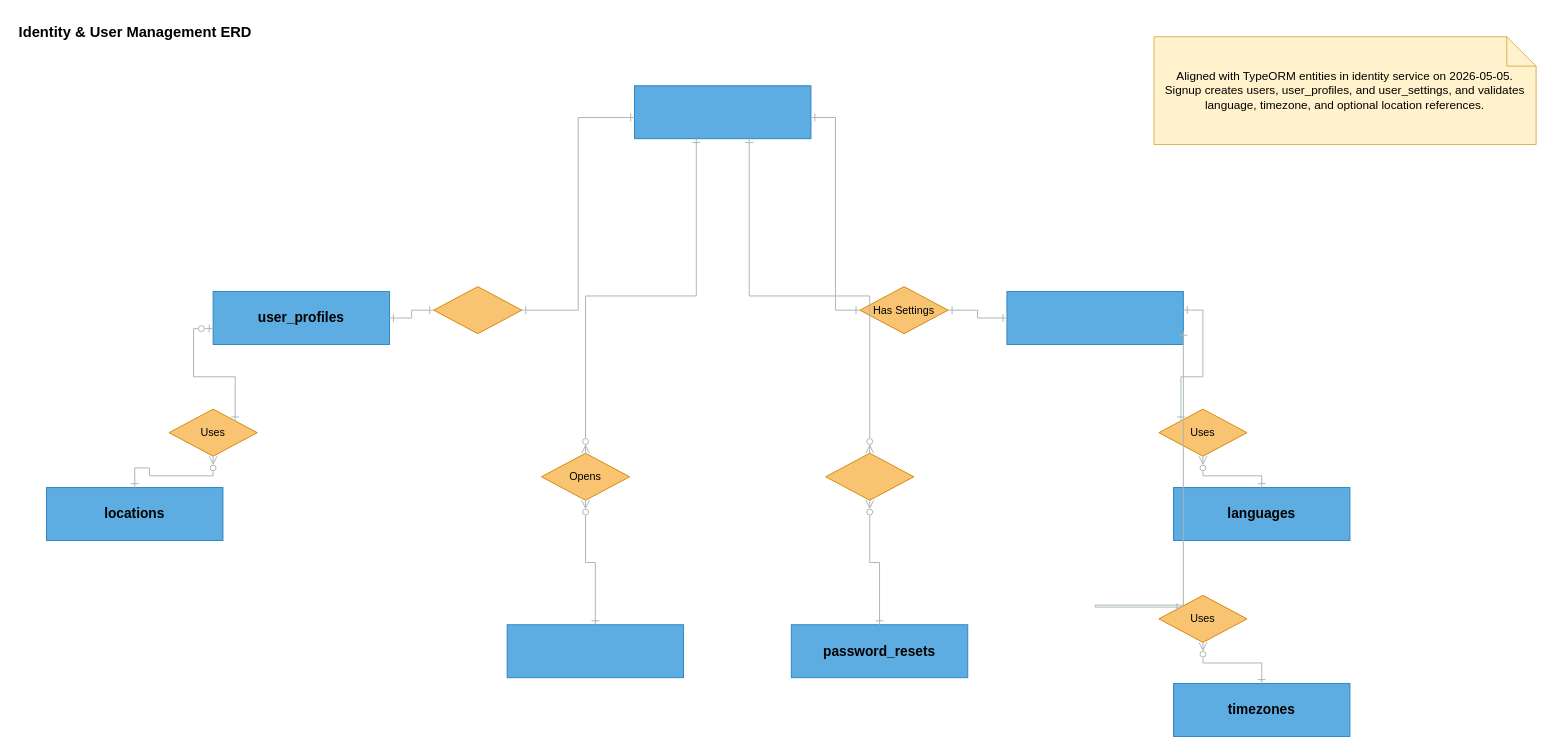
This 1553x754 diagram has some shape labels left out. The centre of each missing label's shape, as x and y in pixels:
"Has Profile" belongs at point 477,310.
"Requests" belongs at point 869,476.
"user_sessions" belongs at point 595,651.
"user_settings" belongs at point 1094,317.
"users" belongs at point 722,112.
